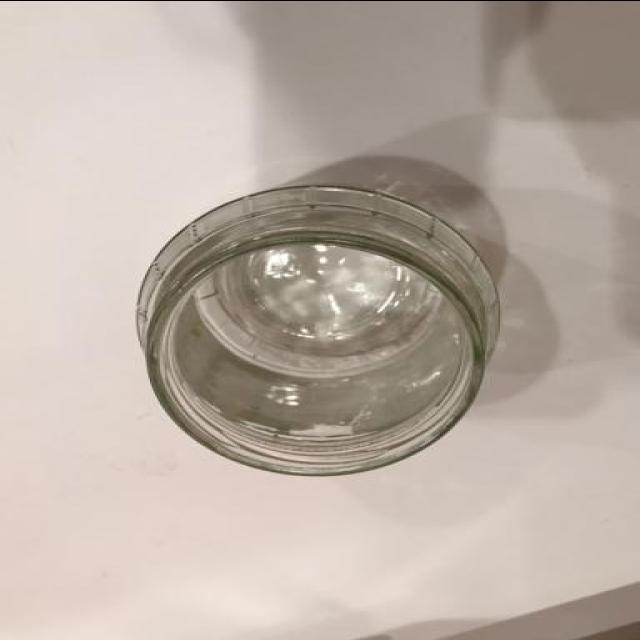Glass Bottle: (130, 186, 505, 476)
